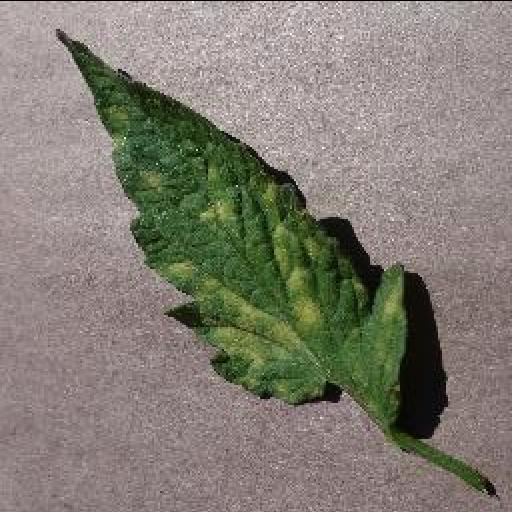disease_tomato: (55, 30, 409, 434)
